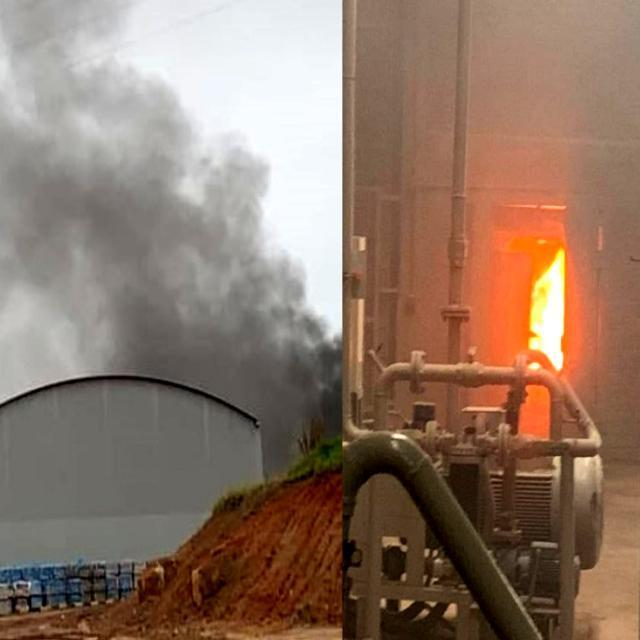Fire: (516, 248, 581, 380)
Smoke: (0, 26, 333, 465)
